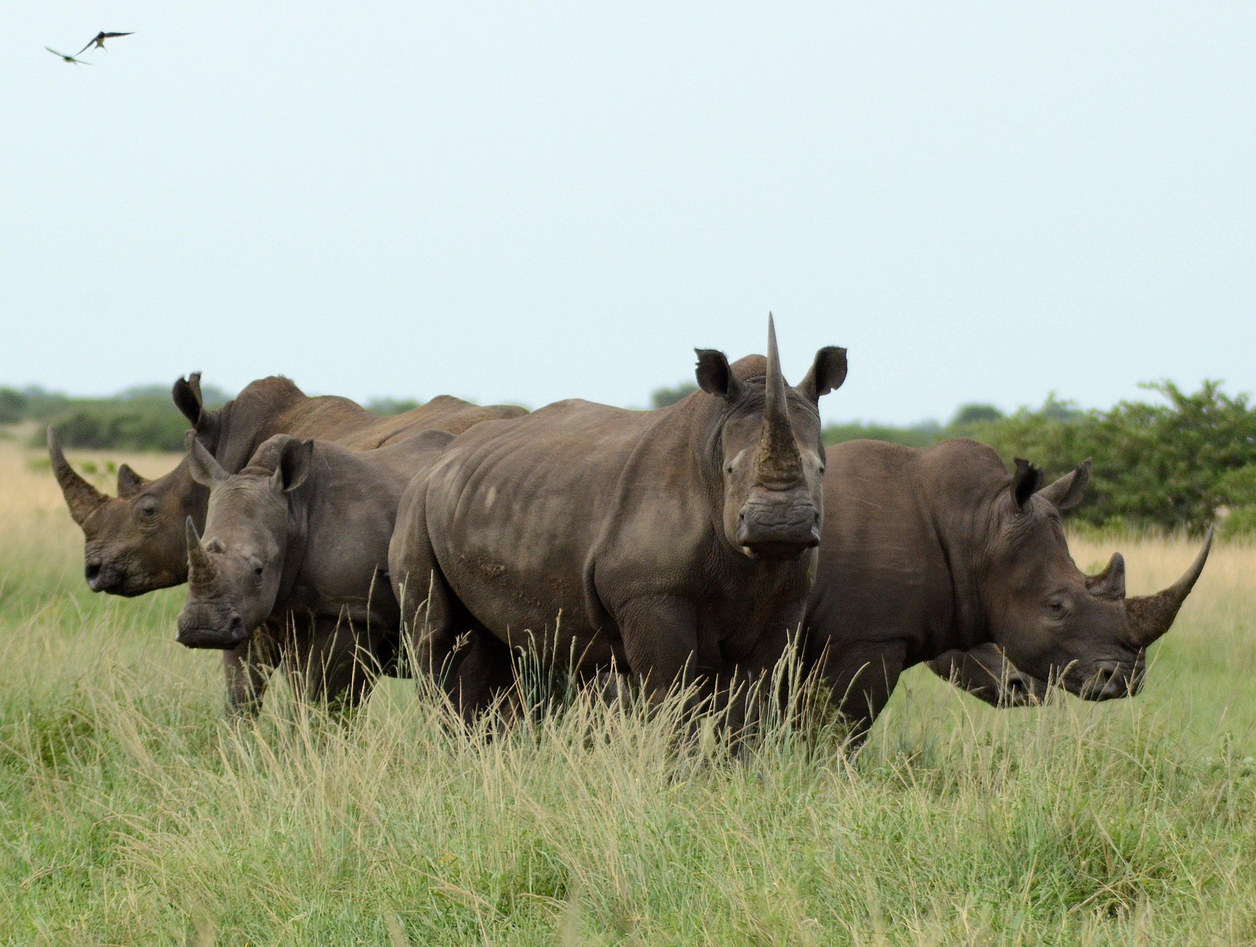Rhinoceroses: (390, 317, 847, 733), (780, 438, 1214, 742), (177, 429, 454, 713), (173, 375, 528, 473), (47, 427, 210, 597), (246, 400, 253, 407), (786, 692, 790, 693)
